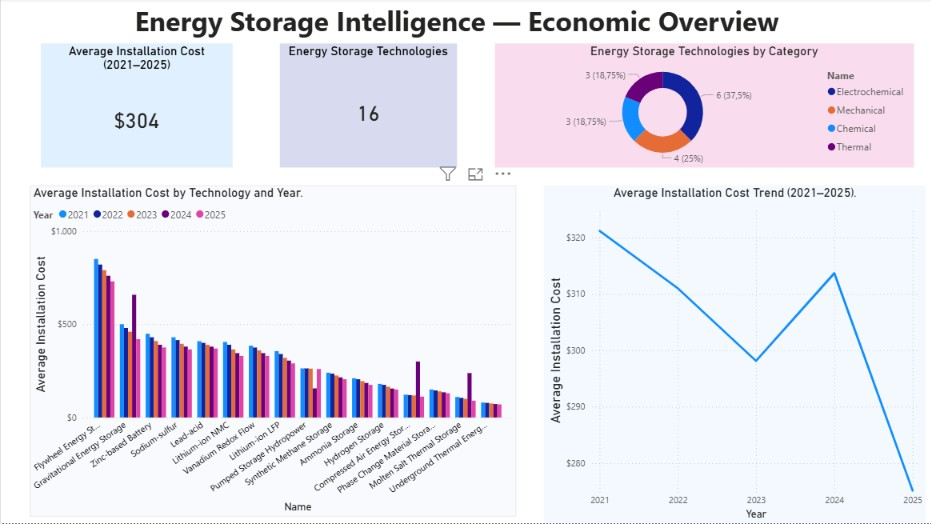

The page's visual inventory and layout, read from the dashboard file:
{"tool":"powerbi","page":{"name":"Σελίδα 1","canvas":[1280,720],"ordinal":0},"visuals":[{"type":"clusteredColumnChart","title":"Average Installation Cost by Technology and Year.","fields":{"Category":["Technologies.Name"],"Series":["EconomicData.Year"],"Y":["Avg(EconomicData.InstallationCost)"]},"box":[39.8,256.6,666.9,454.2],"z":0},{"type":"card","title":"Average Installation Cost (2021–2025)","fields":{"Values":["Avg(EconomicData.InstallationCost)"]},"box":[54.9,61.7,263.5,170.2],"z":1000},{"type":"card","title":"Energy Storage Technologies","fields":{"Values":["Count(Technologies.Name)"]},"box":[382.8,61.7,242.9,170.2],"z":2000},{"type":"donutChart","title":"Energy Storage Technologies by Category","fields":{"Category":["Categories.Name"],"Y":["Count(Technologies.TechnologyID)"]},"box":[677.9,61.7,575,170.2],"z":3000},{"type":"lineChart","title":"Average Installation Cost Trend (2021–2025).","fields":{"Category":["EconomicData.Year"],"Y":["Avg(EconomicData.InstallationCost)"]},"box":[745.1,256.6,524.2,463.8],"z":4000},{"type":"textbox","box":[153.7,0,944.1,61.7],"z":5000}]}

Visuals, with their boxes in screenshot pixels (x1, y1, x2, y2), scaled from the page's 1280x720 canvas onto the 931x524 screenshot:
"Average Installation Cost by Technology and Year." clusteredColumnChart: crop(29, 187, 514, 517)
"Average Installation Cost (2021–2025)" card: crop(40, 45, 232, 169)
"Energy Storage Technologies" card: crop(278, 45, 455, 169)
"Energy Storage Technologies by Category" donutChart: crop(493, 45, 911, 169)
"Average Installation Cost Trend (2021–2025)." lineChart: crop(542, 187, 923, 523)
textbox: crop(112, 0, 798, 45)
